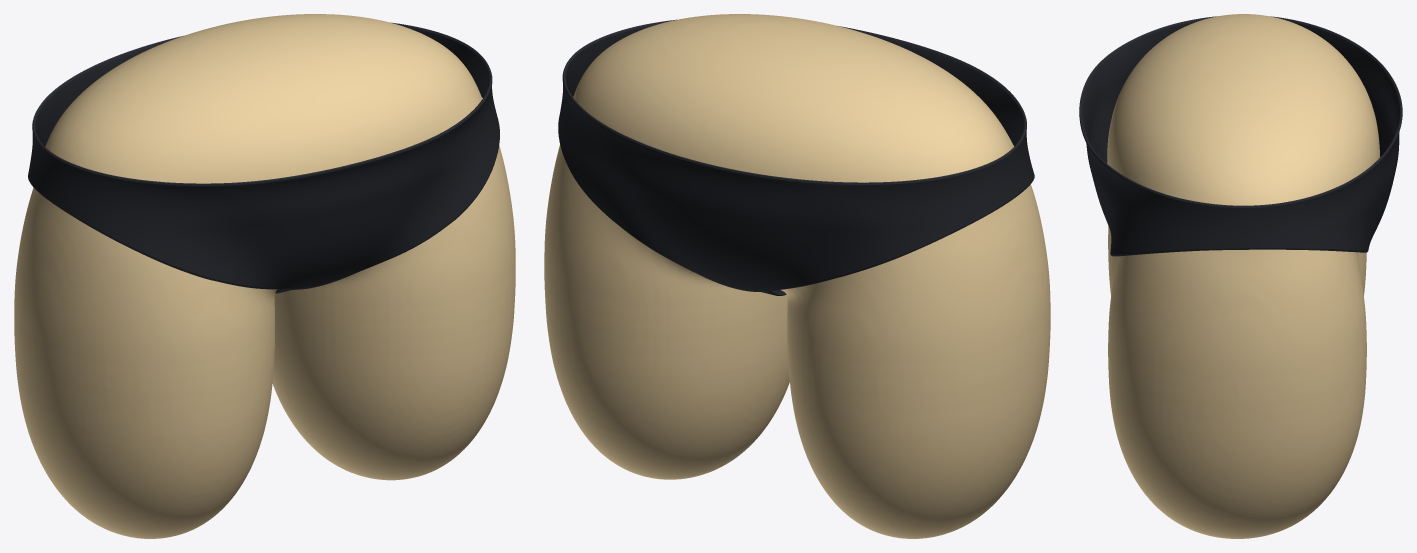
Rendered from Feminine-bikini.glb.
The picture shows the model from 3 angles, left to right: view 1: azimuth 30°, elevation 25°; view 2: azimuth 150°, elevation 25°; view 3: azimuth 270°, elevation 25°; orthographic projection. The views are drawn at different scales.
Visible parts, largest first — view 1: Skin / bikini lower body, Bottom / bikini connected shell, Bottom / bikini seated edge 2 export; view 2: Skin / bikini lower body, Bottom / bikini connected shell, Bottom / bikini seated edge 2 export; view 3: Skin / bikini lower body, Bottom / bikini connected shell, Bottom / bikini seated edge 2 export.
Part boxes in pixels (x1,y1,x2,y2): Skin / bikini lower body: [14, 14, 515, 538]; Bottom / bikini connected shell: [28, 25, 499, 293]; Bottom / bikini seated edge 2 export: [33, 22, 491, 184]; Skin / bikini lower body: [544, 14, 1050, 538]; Bottom / bikini connected shell: [558, 22, 1034, 295]; Bottom / bikini seated edge 2 export: [563, 19, 1026, 183]; Skin / bikini lower body: [1107, 14, 1379, 538]; Bottom / bikini connected shell: [1079, 18, 1402, 255]; Bottom / bikini seated edge 2 export: [1079, 16, 1402, 206].
Size of the model in its own units: 0.6361 by 0.5993 by 0.4179.
